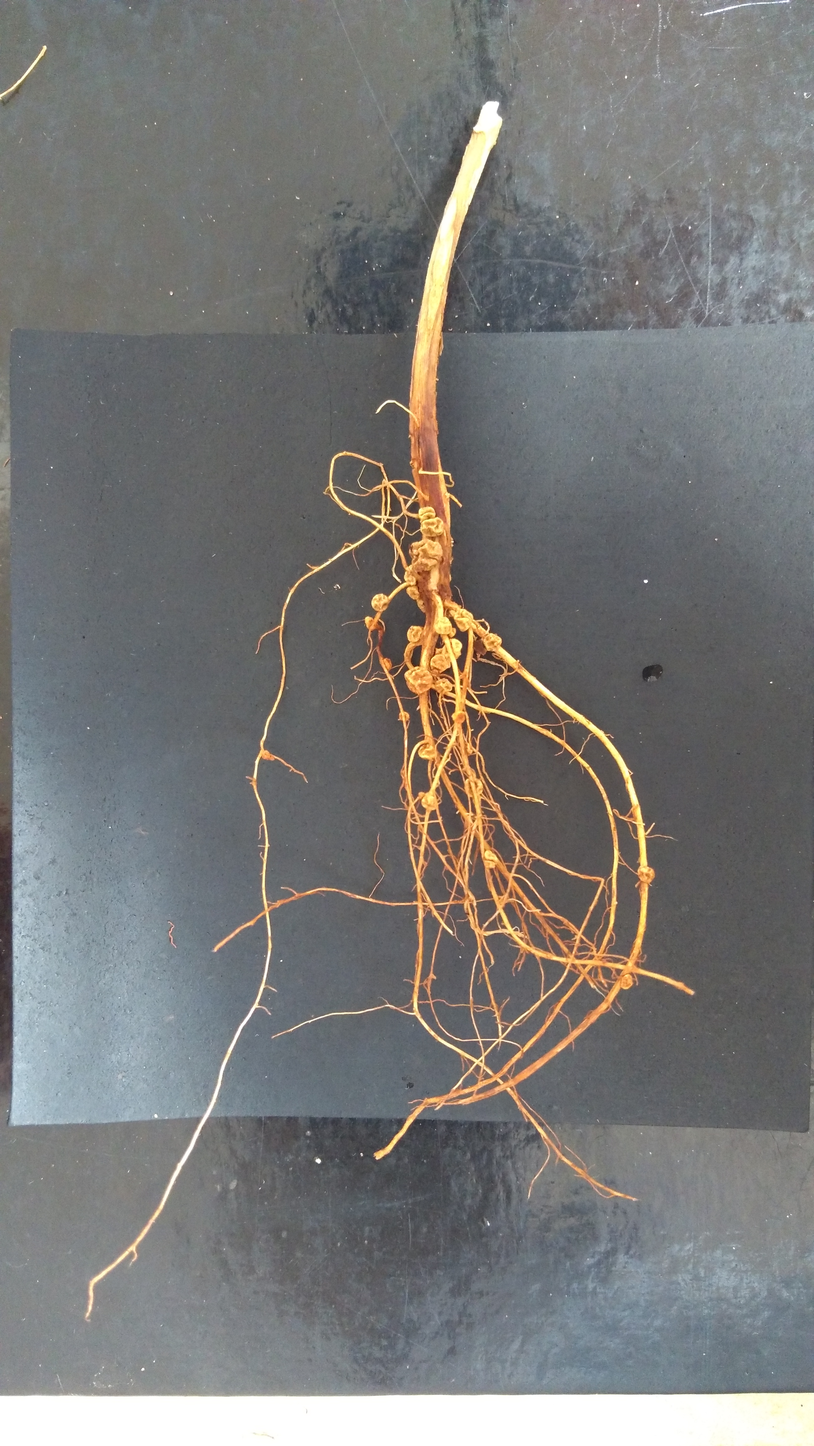nodule: (408, 538, 445, 572), (402, 665, 434, 695), (452, 607, 475, 633), (419, 516, 445, 538), (442, 637, 463, 662), (417, 790, 439, 812), (429, 654, 452, 675), (463, 777, 486, 797), (636, 864, 657, 885), (482, 632, 504, 652), (370, 592, 391, 612), (433, 615, 453, 635), (416, 742, 437, 761), (417, 504, 436, 524), (481, 848, 498, 870), (406, 624, 425, 643), (449, 710, 469, 727), (434, 678, 454, 694), (404, 563, 418, 585), (620, 973, 635, 991), (363, 615, 379, 631), (405, 584, 420, 600), (461, 765, 478, 779), (458, 741, 473, 756), (396, 709, 411, 723), (415, 597, 427, 614), (261, 749, 275, 762), (382, 656, 393, 670), (448, 627, 457, 638)
